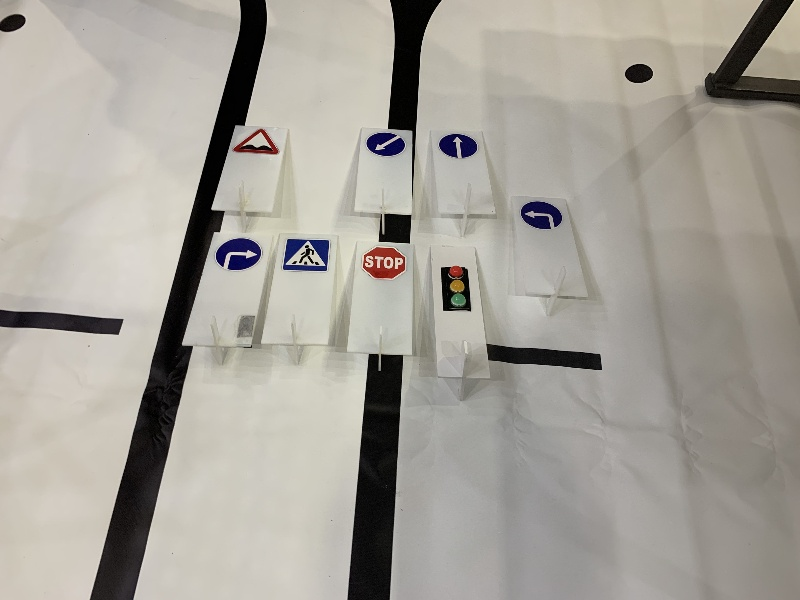Left: (520, 199, 565, 230)
Nerov: (236, 128, 281, 158)
Right: (214, 238, 262, 269)
Stop: (363, 246, 408, 282)
forw: (438, 133, 477, 161)
pesh: (283, 239, 329, 273)
prep: (365, 132, 406, 157)
